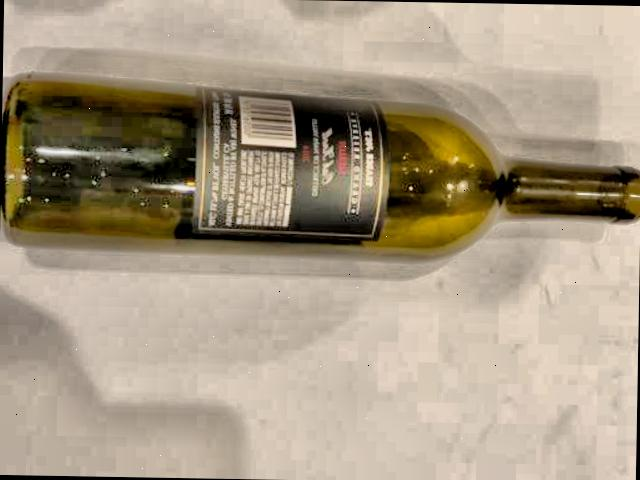Bottles: (0, 50, 640, 296)
